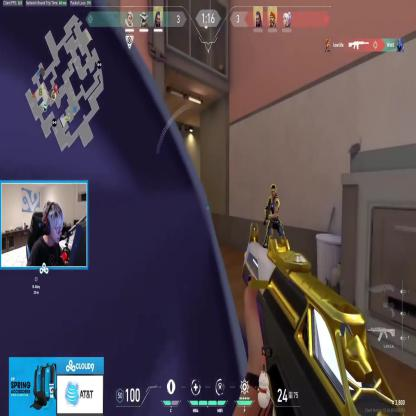enemy: (264, 184, 288, 273)
enemy_head: (271, 184, 277, 198)
